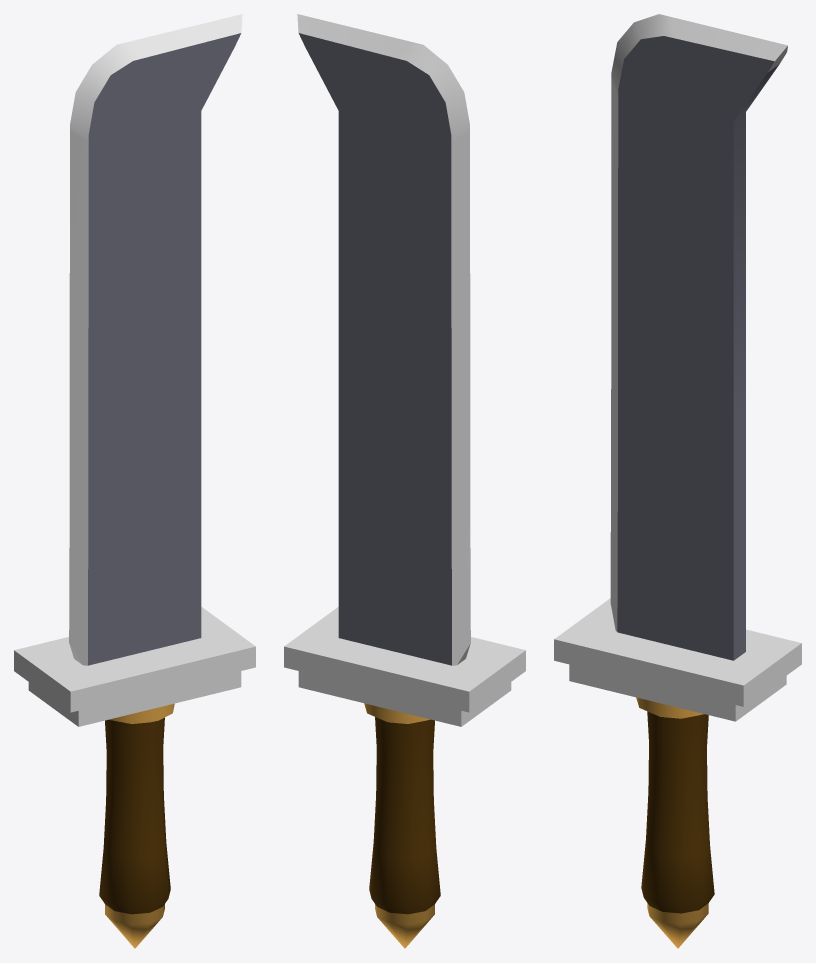
File: Machete.fbx
3 views of the same model, side by side, from view 1: azimuth 30°, elevation 25°; view 2: azimuth 150°, elevation 25°; view 3: azimuth 330°, elevation 25° (orthographic). The views are drawn at different scales.
Parts seen in each view (by area): view 1: Weapon_Sword_2; view 2: Weapon_Sword_2; view 3: Weapon_Sword_2.
Part boxes in pixels (x1=…): Weapon_Sword_2: x1=14, y1=14, x2=255, y2=948; Weapon_Sword_2: x1=284, y1=14, x2=525, y2=948; Weapon_Sword_2: x1=554, y1=14, x2=801, y2=948.
Bounding box in the file's own units: 29.23 × 127 × 14.34.
